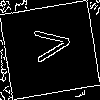V: (25, 24, 72, 65)
